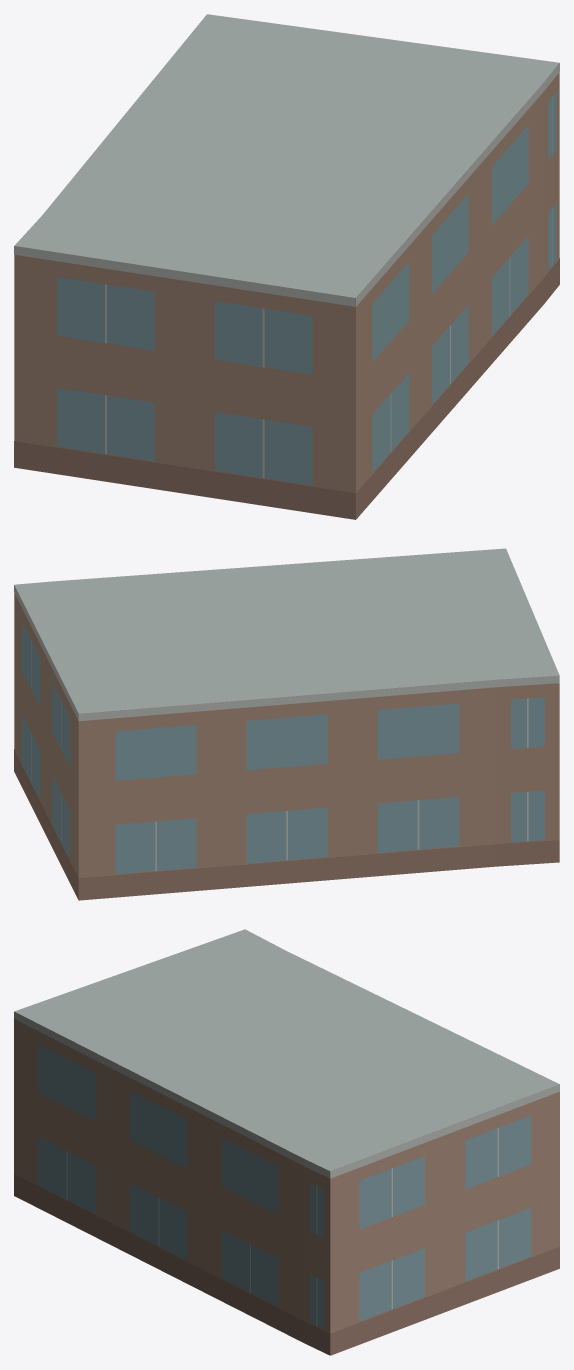
The model's file is survey-upis-32773242.glb.
3 renders of one model, top to bottom at view 1: azimuth 30°, elevation 25°; view 2: azimuth 150°, elevation 25°; view 3: azimuth 270°, elevation 25°, orthographic. The views are drawn at different scales.
Visible parts, largest first — view 1: survey-upis-32773242.tmp; view 2: survey-upis-32773242.tmp; view 3: survey-upis-32773242.tmp.
Boxes of the visible parts, left/top/right/bottom form: survey-upis-32773242.tmp: left=14, top=14, right=559, bottom=519; survey-upis-32773242.tmp: left=14, top=548, right=559, bottom=900; survey-upis-32773242.tmp: left=14, top=929, right=559, bottom=1355.
Size of the model in its own units: 17.19 by 6.1 by 16.37.
